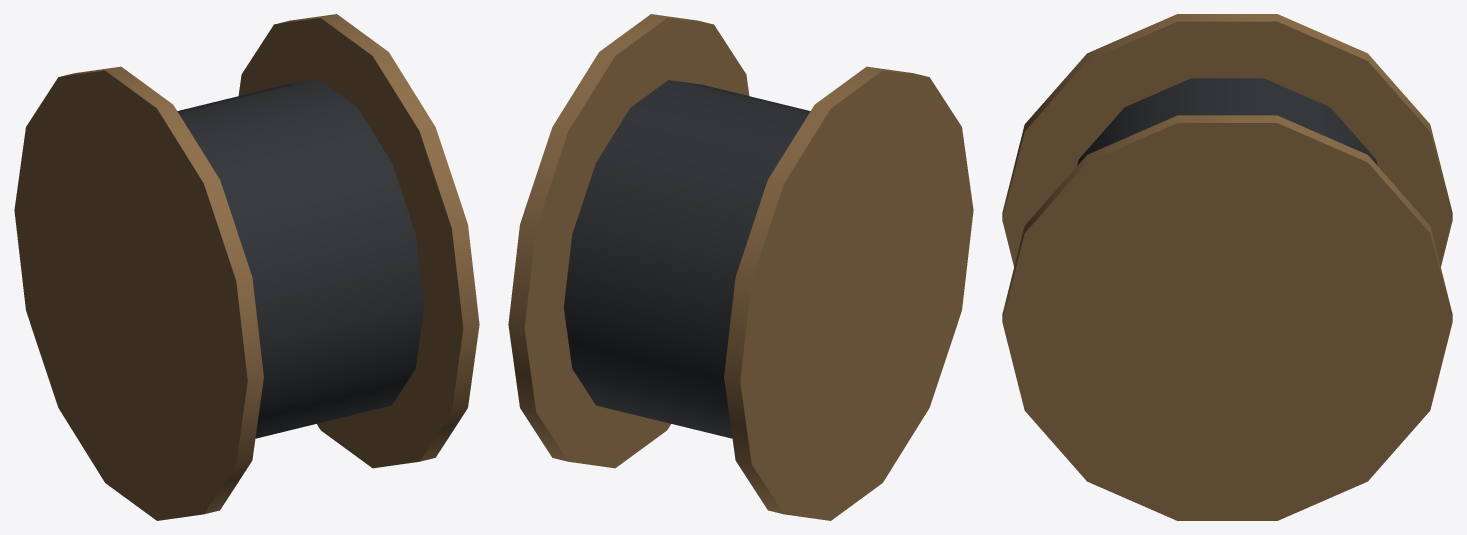
The model's file is cable_spool.glb.
The picture shows the model from 3 angles, left to right: view 1: azimuth 30°, elevation 25°; view 2: azimuth 150°, elevation 25°; view 3: azimuth 270°, elevation 25°; orthographic projection. The views are drawn at different scales.
Parts seen in each view (by area): view 1: CableSpool; view 2: CableSpool; view 3: CableSpool.
Part boxes in pixels (box(x1,y1,x2,y2)): CableSpool: box(14, 14, 479, 520); CableSpool: box(508, 14, 973, 520); CableSpool: box(1002, 14, 1452, 520).
Bounding box in the file's own units: 0.86 × 1.46 × 1.5.
